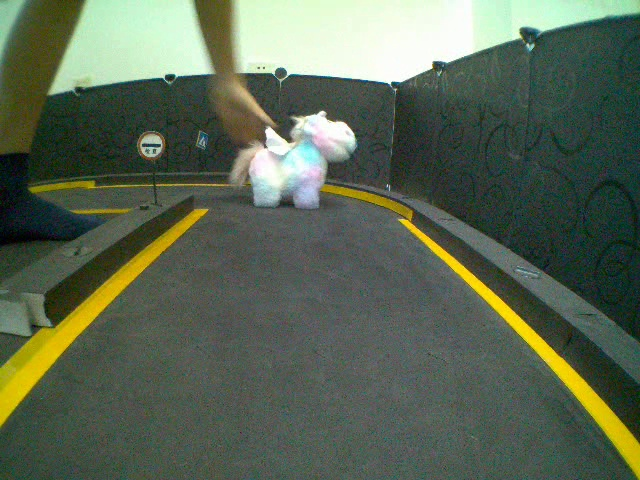unicorn: (238, 110, 355, 210)
